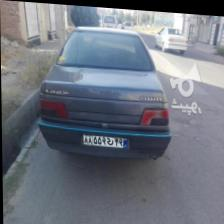plate: (84, 132, 127, 146)
